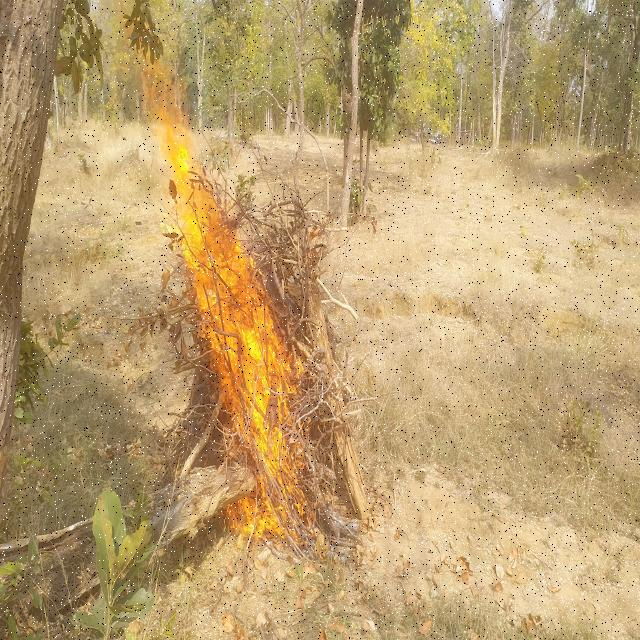fire: (175, 141, 321, 551)
